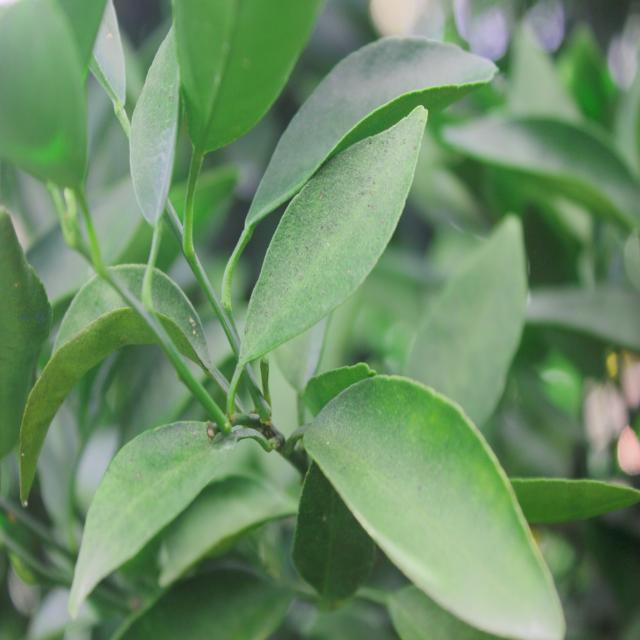blackspot: (240, 119, 418, 352), (317, 378, 501, 588), (76, 424, 208, 580), (134, 74, 175, 185)
